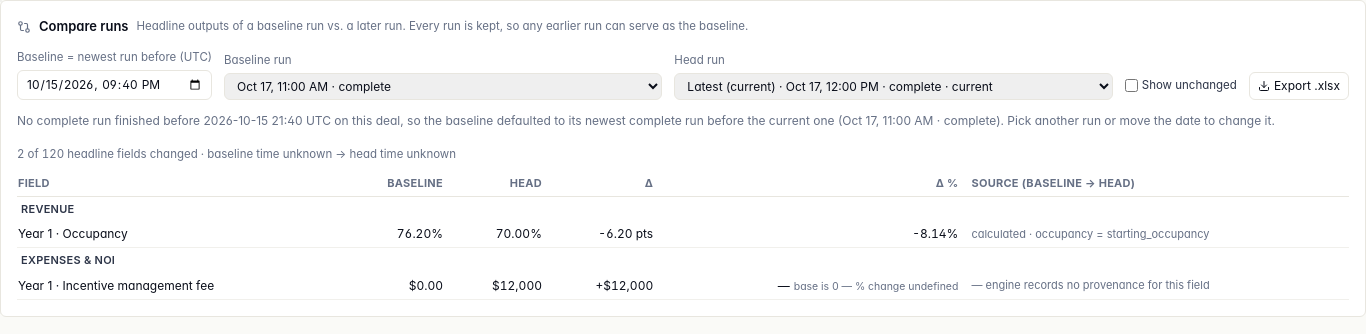
RunComparePanel › falls back to the newest earlier complete run when nothing predates the default cutoff, and labels it
Expected: the dropdown with test id "run-compare-base" shows "Oct 17, 11:00 AM · complete", [224,73,662,100]
Expected: the text with test id "run-compare-fallback-note" shows "No complete run finished before 2026-10-15 21:40 UTC", [17,112,1349,130]
// Moving the date is the analyst's call — no fallback then (worker still names none).
Replace the text in the field with test id "run-compare-cutoff" with "2026-10-17T10:30" at (114, 85), box [17,70,212,100]
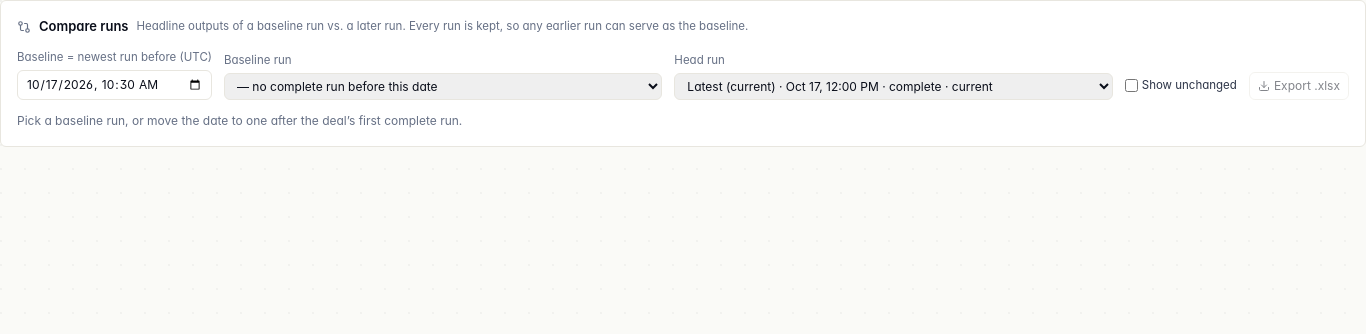
Now the dropdown with test id "run-compare-base" shows "— no complete run before this date", box [224,73,662,100]
Now the text with test id "run-compare-fallback-note" is gone
